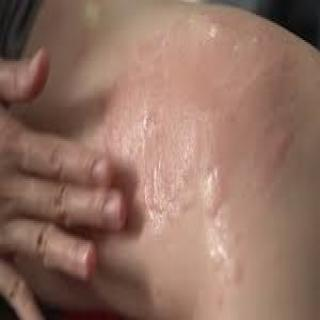urticaria: (126, 68, 308, 255)
